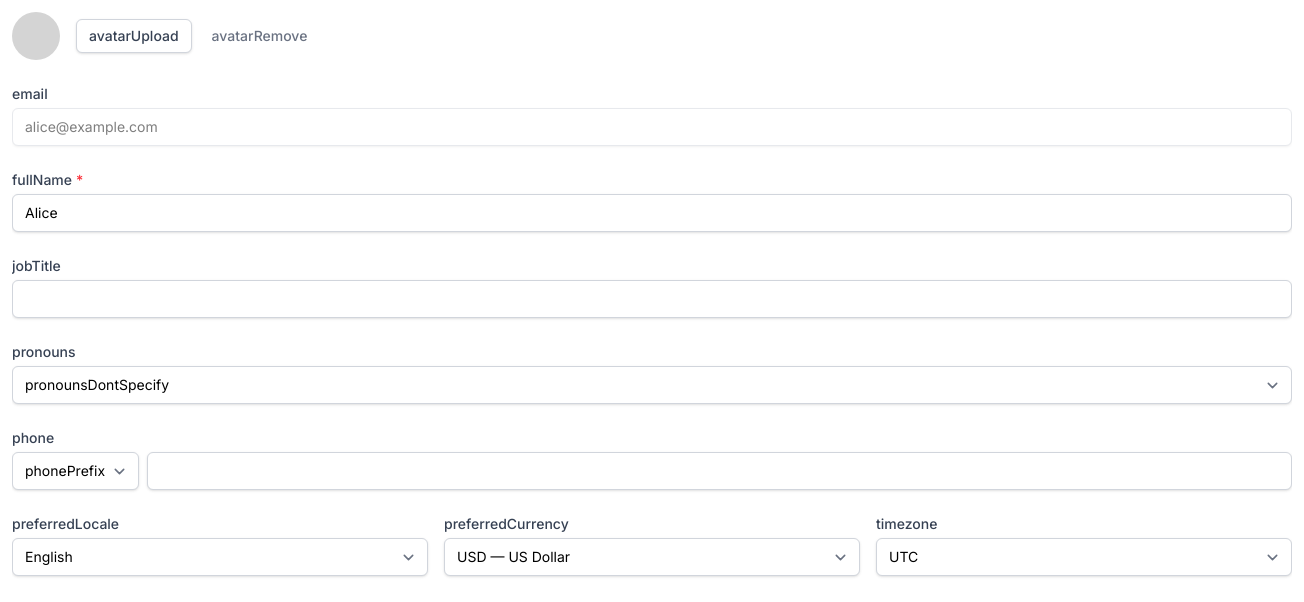
Test case: ProfileForm › renders an error banner when avatar deletion fails and leaves avatarUrl untouched
Click the button "avatarRemove" at (260, 36), box [200, 19, 319, 53]
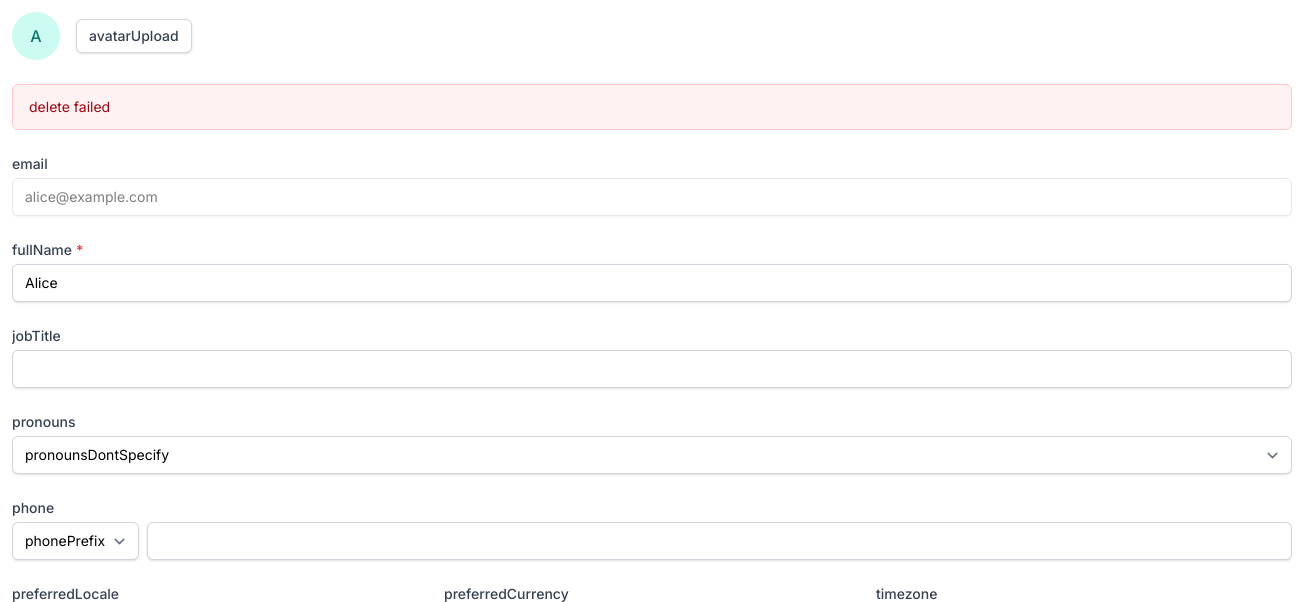
Now the text "delete failed" is shown, box [12, 84, 1292, 130]
